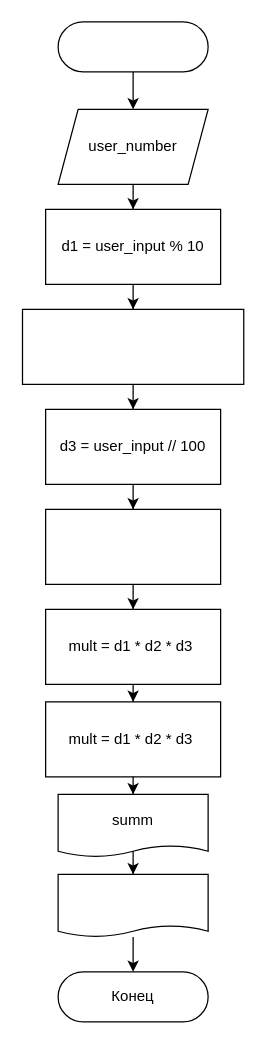
Some shapes in this 265 by 1044 pixel diagram are drawn without their labels. The centre of each missing label's shape, as x and y in pixels:
"d2 = user_input % 100 // 10" goes at [132,346].
"mult" goes at [132,905].
"summ = d1 + d2 + d3" goes at [132,546].
"Начало" goes at [132,46].
